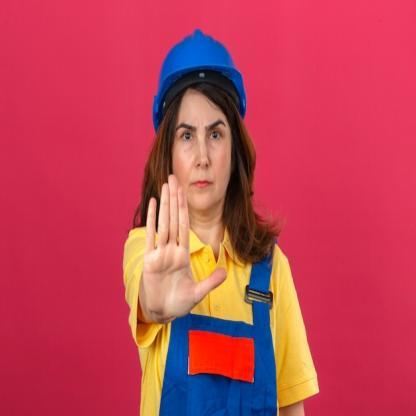stop: (139, 171, 227, 320)
